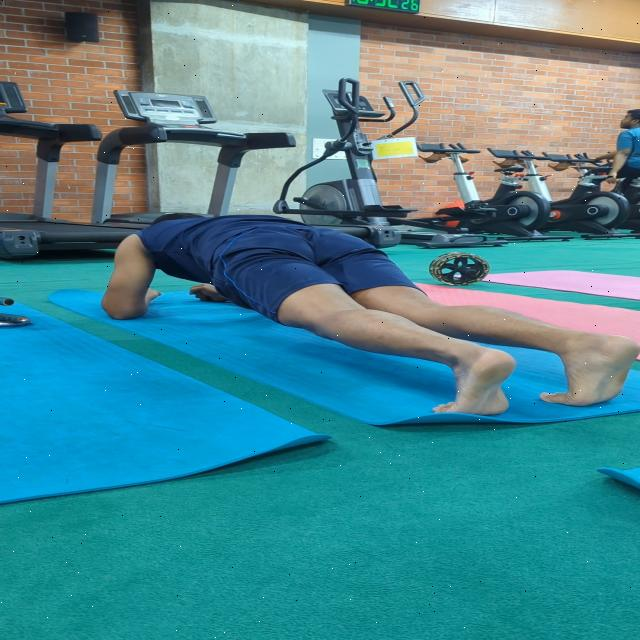Normal_Plunk: (79, 208, 640, 424)
